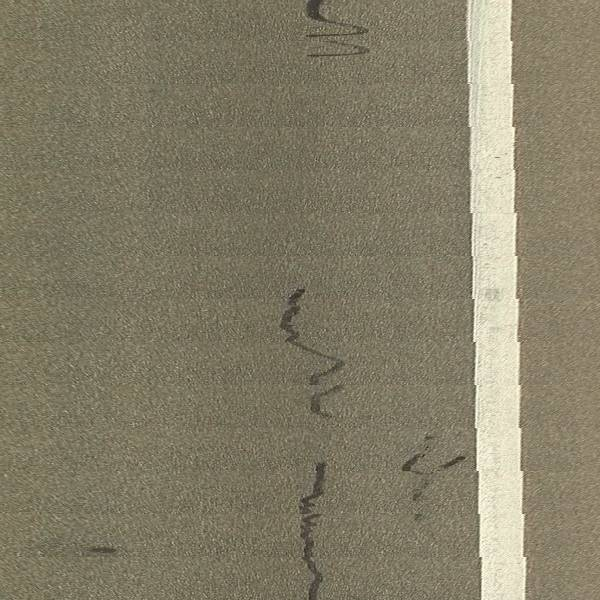road_damage: (271, 282, 351, 418), (295, 456, 333, 600), (298, 1, 373, 61)
